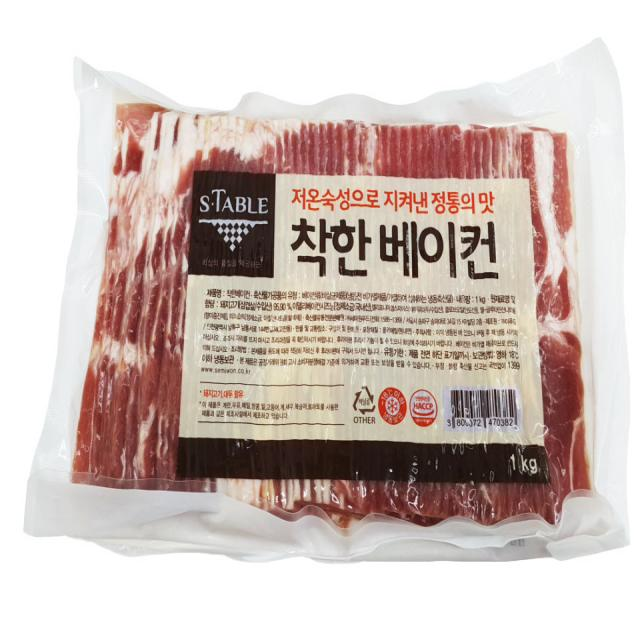bacon: (24, 41, 630, 560)
